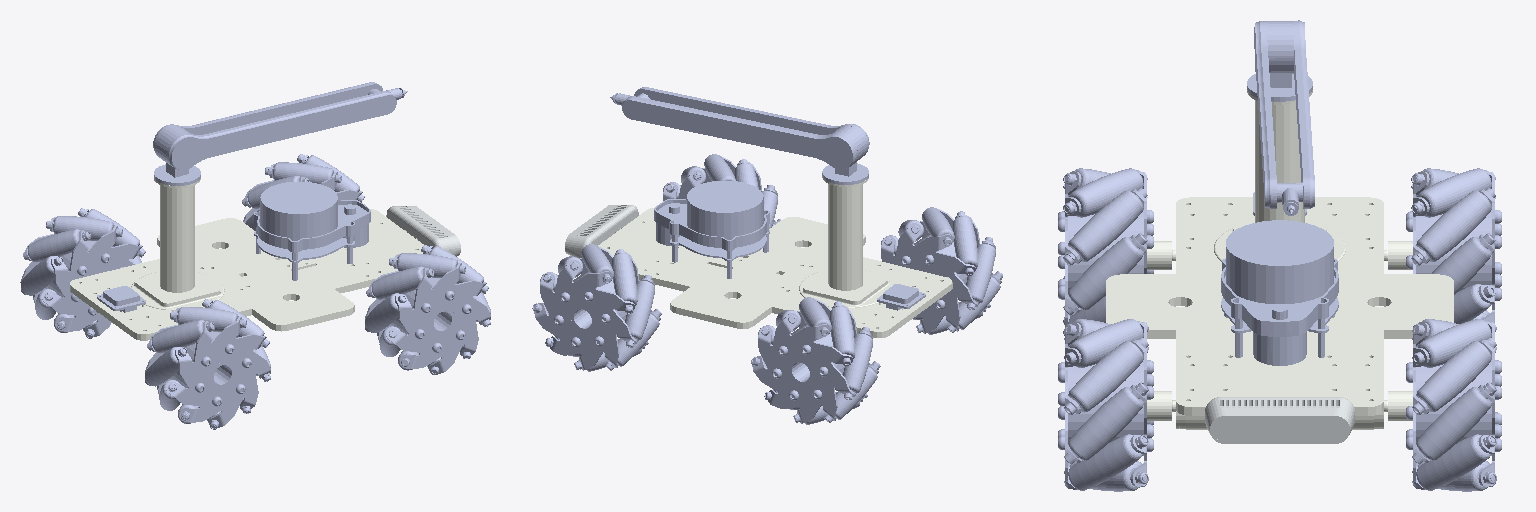
URDF robot description (agv6):
<?xml version="1.0" encoding="utf-8"?>
<!-- This URDF was automatically created by SolidWorks to URDF Exporter! Originally created by [author] ([email redacted]) 
     Commit Version: 1.6.0-4-g7f85cfe  Build Version: 1.6.7995.38578
     For more information, please see http://wiki.ros.org/sw_urdf_exporter -->
<robot
  name="agv6">
  <link
    name="base_link">
    <inertial>
      <origin
        xyz="-0.0141107725668544 3.029381788755E-07 0.00115012650526233"
        rpy="0 0 0" />
      <mass
        value="0.491708166350257" />
      <inertia
        ixx="0.000733239059020109"
        ixy="-6.66020089403762E-08"
        ixz="6.36036351146289E-09"
        iyy="0.00180017607991645"
        iyz="4.09726280654699E-12"
        izz="0.00231558679338059" />
    </inertial>
    <visual>
      <origin
        xyz="0 0 0"
        rpy="0 0 0" />
      <geometry>
        <mesh
          filename="package://agv6/meshes/base_link.STL" />
      </geometry>
      <material
        name="">
        <color
          rgba="0.984313725490196 1 0.968627450980392 1" />
      </material>
    </visual>
    <collision>
      <origin
        xyz="0 0 0"
        rpy="0 0 0" />
      <geometry>
        <mesh
          filename="package://agv6/meshes/base_link.STL" />
      </geometry>
    </collision>
  </link>
  <link
    name="Wheel_left_front">
    <inertial>
      <origin
        xyz="3.47385543941758E-10 3.9860337253117E-12 -0.0290464516500078"
        rpy="0 0 0" />
      <mass
        value="0.266614887622473" />
      <inertia
        ixx="8.05443070625669E-05"
        ixy="5.5662537194969E-16"
        ixz="9.71597439900984E-15"
        iyy="8.05443070646188E-05"
        iyz="-1.14696826000883E-12"
        izz="9.31811521324714E-05" />
    </inertial>
    <visual>
      <origin
        xyz="0 0 0"
        rpy="0 0 0" />
      <geometry>
        <mesh
          filename="package://agv6/meshes/Wheel_left_front.STL" />
      </geometry>
      <material
        name="">
        <color
          rgba="0.792156862745098 0.819607843137255 0.933333333333333 1" />
      </material>
    </visual>
    <collision>
      <origin
        xyz="0 0 0"
        rpy="0 0 0" />
      <geometry>
        <mesh
          filename="package://agv6/meshes/Wheel_left_front.STL" />
      </geometry>
    </collision>
  </link>
  <joint
    name="Wheel_left_front_jt"
    type="continuous">
    <origin
      xyz="0.107048219071856 0.0760006401560521 -0.0189999999999998"
      rpy="1.57079632679488 -1.5707963267949 0" />
    <parent
      link="base_link" />
    <child
      link="Wheel_left_front" />
    <axis
      xyz="0 0 1" />
  </joint>
  <link
    name="Wheel_right_front">
    <inertial>
      <origin
        xyz="3.47385377408305E-10 3.99003052820035E-12 0.0289535483499968"
        rpy="0 0 0" />
      <mass
        value="0.266614887622474" />
      <inertia
        ixx="8.05443070626013E-05"
        ixy="5.64822109780841E-16"
        ixz="9.73549499639134E-15"
        iyy="8.05443070646751E-05"
        iyz="-1.14698972472684E-12"
        izz="9.31811521325258E-05" />
    </inertial>
    <visual>
      <origin
        xyz="0 0 0"
        rpy="0 0 0" />
      <geometry>
        <mesh
          filename="package://agv6/meshes/Wheel_right_front.STL" />
      </geometry>
      <material
        name="">
        <color
          rgba="0.792156862745098 0.819607843137255 0.933333333333333 1" />
      </material>
    </visual>
    <collision>
      <origin
        xyz="0 0 0"
        rpy="0 0 0" />
      <geometry>
        <mesh
          filename="package://agv6/meshes/Wheel_right_front.STL" />
      </geometry>
    </collision>
  </link>
  <joint
    name="Wheel_right_front_jt"
    type="continuous">
    <origin
      xyz="0.10704821907186 -0.0759993598439369 -0.0189999999999996"
      rpy="1.57079632679476 -1.5707963267949 0" />
    <parent
      link="base_link" />
    <child
      link="Wheel_right_front" />
    <axis
      xyz="0 0 1" />
  </joint>
  <link
    name="Wheel_right_rear">
    <inertial>
      <origin
        xyz="-3.7903291616459E-12 3.4740943455347E-10 0.02904645164992"
        rpy="0 0 0" />
      <mass
        value="0.266614887621424" />
      <inertia
        ixx="8.0544307064606E-05"
        ixy="-6.43695276729721E-16"
        ixz="1.14698028788254E-12"
        iyy="8.05443070625906E-05"
        iyz="6.93133000309604E-15"
        izz="9.31811521324745E-05" />
    </inertial>
    <visual>
      <origin
        xyz="0 0 0"
        rpy="0 0 0" />
      <geometry>
        <mesh
          filename="package://agv6/meshes/Wheel_right_rear.STL" />
      </geometry>
      <material
        name="">
        <color
          rgba="0.792156862745098 0.819607843137255 0.933333333333333 1" />
      </material>
    </visual>
    <collision>
      <origin
        xyz="0 0 0"
        rpy="0 0 0" />
      <geometry>
        <mesh
          filename="package://agv6/meshes/Wheel_right_rear.STL" />
      </geometry>
    </collision>
  </link>
  <joint
    name="Wheel_right_rear_jt"
    type="continuous">
    <origin
      xyz="-0.107951409089476 -0.0759993598439437 -0.0189999999999995"
      rpy="1.5707963267949 0 0" />
    <parent
      link="base_link" />
    <child
      link="Wheel_right_rear" />
    <axis
      xyz="0 0 -1" />
  </joint>
  <link
    name="Wheel_left_rear">
    <inertial>
      <origin
        xyz="-3.789094038531E-12 3.47409212508865E-10 -0.0289535483500907"
        rpy="0 0 0" />
      <mass
        value="0.266614887621422" />
      <inertia
        ixx="8.05443070645667E-05"
        ixy="-6.45957913490074E-16"
        ixz="1.14696455560682E-12"
        iyy="8.05443070625707E-05"
        iyz="6.93090674193091E-15"
        izz="9.31811521324394E-05" />
    </inertial>
    <visual>
      <origin
        xyz="0 0 0"
        rpy="0 0 0" />
      <geometry>
        <mesh
          filename="package://agv6/meshes/Wheel_left_rear.STL" />
      </geometry>
      <material
        name="">
        <color
          rgba="0.792156862745098 0.819607843137255 0.933333333333333 1" />
      </material>
    </visual>
    <collision>
      <origin
        xyz="0 0 0"
        rpy="0 0 0" />
      <geometry>
        <mesh
          filename="package://agv6/meshes/Wheel_left_rear.STL" />
      </geometry>
    </collision>
  </link>
  <joint
    name="Wheel_left_rear_jt"
    type="continuous">
    <origin
      xyz="-0.107951409089479 0.0760006401560475 -0.0189999999999994"
      rpy="1.5707963267949 0 0" />
    <parent
      link="base_link" />
    <child
      link="Wheel_left_rear" />
    <axis
      xyz="0 0 -1" />
  </joint>
  <link
    name="Lidar">
    <inertial>
      <origin
        xyz="0.00857409192474684 0.0104781429757902 -1.76941794549634E-16"
        rpy="0 0 0" />
      <mass
        value="0.146695752131392" />
      <inertia
        ixx="6.33135346729767E-05"
        ixy="2.05151449566312E-05"
        ixz="7.24755862153932E-19"
        iyy="0.000124641101682034"
        iyz="-3.9522345022547E-19"
        izz="0.000109673997590948" />
    </inertial>
    <visual>
      <origin
        xyz="0 0 0"
        rpy="0 0 0" />
      <geometry>
        <mesh
          filename="package://agv6/meshes/Lidar.STL" />
      </geometry>
      <material
        name="">
        <color
          rgba="0.792156862745098 0.819607843137255 0.933333333333333 1" />
      </material>
    </visual>
    <collision>
      <origin
        xyz="0 0 0"
        rpy="0 0 0" />
      <geometry>
        <mesh
          filename="package://agv6/meshes/Lidar.STL" />
      </geometry>
    </collision>
  </link>
  <joint
    name="Lidar_jt"
    type="fixed">
    <origin
      xyz="0.0417151580666163 0 0.027"
      rpy="1.5707963267949 -0.0264386679685926 0" />
    <parent
      link="base_link" />
    <child
      link="Lidar" />
    <axis
      xyz="0 0 0" />
  </joint>
  <link
    name="camera">
    <inertial>
      <origin
        xyz="0.0115483643711406 -0.000441415122653756 -1.13628385581474E-05"
        rpy="0 0 0" />
      <mass
        value="0.107910841950023" />
      <inertia
        ixx="7.1257259001727E-05"
        ixy="2.27664851839744E-08"
        ixz="1.79225553235741E-08"
        iyy="7.025503337675E-05"
        iyz="-1.88600170449567E-10"
        izz="7.71021079633262E-06" />
    </inertial>
    <visual>
      <origin
        xyz="0 0 0"
        rpy="0 0 0" />
      <geometry>
        <mesh
          filename="package://agv6/meshes/camera.STL" />
      </geometry>
      <material
        name="">
        <color
          rgba="0.898039215686275 0.917647058823529 0.929411764705882 1" />
      </material>
    </visual>
    <collision>
      <origin
        xyz="0 0 0"
        rpy="0 0 0" />
      <geometry>
        <mesh
          filename="package://agv6/meshes/camera.STL" />
      </geometry>
    </collision>
  </link>
  <joint
    name="camera_jt"
    type="fixed">
    <origin
      xyz="0.151548404991191 0 -0.00299999999999999"
      rpy="1.5707963267949 -0.0264386679685926 0" />
    <parent
      link="base_link" />
    <child
      link="camera" />
    <axis
      xyz="0 0 0" />
  </joint>
  <link
    name="Link_1">
    <inertial>
      <origin
        xyz="-2.77555756156289E-17 0.0213531049276671 -8.32667268468867E-17"
        rpy="0 0 0" />
      <mass
        value="0.014853253631043" />
      <inertia
        ixx="3.72476272804096E-06"
        ixy="-1.52717649052892E-21"
        ixz="-4.09688182869347E-08"
        iyy="1.75364740682686E-06"
        iyz="9.81860977863269E-21"
        izz="4.25038255857524E-06" />
    </inertial>
    <visual>
      <origin
        xyz="0 0 0"
        rpy="0 0 0" />
      <geometry>
        <mesh
          filename="package://agv6/meshes/Link_1.STL" />
      </geometry>
      <material
        name="">
        <color
          rgba="0.792156862745098 0.819607843137255 0.933333333333333 1" />
      </material>
    </visual>
    <collision>
      <origin
        xyz="0 0 0"
        rpy="0 0 0" />
      <geometry>
        <mesh
          filename="package://agv6/meshes/Link_1.STL" />
      </geometry>
    </collision>
  </link>
  <joint
    name="Link_1_jt"
    type="revolute">
    <origin
      xyz="-0.077177 0 0.10084"
      rpy="1.5708 0 0.10723" />
    <parent
      link="base_link" />
    <child
      link="Link_1" />
    <axis
      xyz="0 1 0" />
    <limit
      lower="-3.142"
      upper="3.142"
      effort="100"
      velocity="3" />
  </joint>
  <link
    name="Link_2">
    <inertial>
      <origin
        xyz="0.090252079375302 0.00381667181198561 0.00270003489470364"
        rpy="0 0 0" />
      <mass
        value="0.071785788300906" />
      <inertia
        ixx="1.16431099951284E-05"
        ixy="-6.27559044789669E-06"
        ixz="-1.05003195017347E-05"
        iyy="0.000368732065022596"
        iyz="-1.87744522428076E-07"
        izz="0.000362315327370893" />
    </inertial>
    <visual>
      <origin
        xyz="0 0 0"
        rpy="0 0 0" />
      <geometry>
        <mesh
          filename="package://agv6/meshes/Link_2.STL" />
      </geometry>
      <material
        name="">
        <color
          rgba="0.792156862745098 0.819607843137255 0.933333333333333 1" />
      </material>
    </visual>
    <collision>
      <origin
        xyz="0 0 0"
        rpy="0 0 0" />
      <geometry>
        <mesh
          filename="package://agv6/meshes/Link_2.STL" />
      </geometry>
    </collision>
  </link>
  <joint
    name="Link_2_jt"
    type="revolute">
    <origin
      xyz="0 0.035395 0"
      rpy="3.1416 -0.10723 0" />
    <parent
      link="Link_1" />
    <child
      link="Link_2" />
    <axis
      xyz="0 0 -1" />
    <limit
      lower="-2.5"
      upper="2.5"
      effort="50"
      velocity="3" />
  </joint>
  <link
    name="gps">
    <inertial>
      <origin
        xyz="-0.00011371080558821 -0.00429992576596126 1.38777878078145E-17"
        rpy="0 0 0" />
      <mass
        value="0.00526131193736583" />
      <inertia
        ixx="4.05054326208938E-07"
        ixy="7.33496718553491E-09"
        ixz="-1.13657535488902E-21"
        iyy="6.82229019701943E-07"
        iyz="-1.19858039708162E-21"
        izz="3.36616354249181E-07" />
    </inertial>
    <visual>
      <origin
        xyz="0 0 0"
        rpy="0 0 0" />
      <geometry>
        <mesh
          filename="package://agv6/meshes/gps.STL" />
      </geometry>
      <material
        name="">
        <color
          rgba="0.792156862745098 0.819607843137255 0.933333333333333 1" />
      </material>
    </visual>
    <collision>
      <origin
        xyz="0 0 0"
        rpy="0 0 0" />
      <geometry>
        <mesh
          filename="package://agv6/meshes/gps.STL" />
      </geometry>
    </collision>
  </link>
  <joint
    name="gps_jt"
    type="fixed">
    <origin
      xyz="-0.131951595008809 0 0.0103"
      rpy="1.5707963267949 -0.0264386679685926 0" />
    <parent
      link="base_link" />
    <child
      link="gps" />
    <axis
      xyz="0 0 0" />
  </joint>
<!-- them plugin gps -->
        <gazebo reference="gps_link">
            <material>Gazebo/Orange</material>
            <gravity>true</gravity>
        </gazebo>
        
<gazebo>
    <plugin name="gps_plugin" filename="libhector_gazebo_ros_gps.so">
      <updateRate>10.0</updateRate>           <!-- Update frequency in Hz -->
      <bodyName>base_link</bodyName>         <!-- Link to attach the GPS sensor -->
      <topicName>/gps/fix</topicName>        <!-- ROS topic for GPS data -->
      <velocityTopicName>/gps/fix_velocity</velocityTopicName> <!-- ROS topic for velocity -->
      <referenceLatitude>40.7128</referenceLatitude>  <!-- Reference latitude (e.g., New York) -->
      <referenceLongitude>-74.0060</referenceLongitude> <!-- Reference longitude -->
      <referenceAltitude>0.0</referenceAltitude>     <!-- Reference altitude in meters -->
      <drift>0.001 0.001 0.001</drift>              <!-- Position drift (x, y, z) -->
      <gaussianNoise>0.05 0.05 0.05</gaussianNoise>  <!-- Gaussian noise for position -->
    </plugin>
  </gazebo>

    <!-- Add Gazebo plugin for Camera -->
    <gazebo reference="camera">
        <sensor type="camera" name="camera">
            <!-- <pose>0.015 0 0 0 -${pi/2} 0</pose> -->
            <update_rate>30.0</update_rate>
            <camera name="head">
                <horizontal_fov>1.3962634</horizontal_fov>
                <image>
                    <width>640</width>
                    <height>480</height>
                    <format>R8G8B8</format>
                </image>
                <clip>
                    <near>0.02</near>
                    <far>300</far>
                </clip>
                <noise>
                    <type>gaussian</type>
                    <mean>0.0</mean>
                    <stddev>0.007</stddev>
                </noise>
            </camera>
            <plugin name="camera_controller" filename="libgazebo_ros_camera.so">
                <alwaysOn>true</alwaysOn>
                <updateRate>0.0</updateRate>
                <robotNamespace>agv6</robotNamespace>
                <cameraName>camera</cameraName>
                <imageTopicName>image_raw</imageTopicName>
                <cameraInfoTopicName>camera_info</cameraInfoTopicName>
                <frameName>camera</frameName>
                <hackBaseline>0.07</hackBaseline>
                <distortionK1>0.0</distortionK1>
                <distortionK2>0.0</distortionK2>
                <distortionK3>0.0</distortionK3>
                <distortionT1>0.0</distortionT1>
                <distortionT2>0.0</distortionT2>
            </plugin>
            <visualize>true</visualize>
        </sensor>
    </gazebo>

    <!-- Add Gazebo plugin for Lidar -->
    <gazebo reference="Lidar">
        <sensor name="laser" type="ray">
            <pose>0 0.03 0 1.5708 0 0</pose>
            <ray>
                <scan>
                    <horizontal>
                        <!-- The URG-04LX-UG01 has 683 steps with 0.35139 Degree resolution -->
                        <resolution>1</resolution>
                        <max_angle>2.0944</max_angle> <!-- 120 Degree -->
                        <min_angle>-2.0944</min_angle> <!-- -120 Degree -->
                        <samples>683</samples>
                    </horizontal>
                </scan>
                <range>
                    <min>0.08</min>
                    <max>5</max>
                    <resolution>0.01</resolution>
                </range>
            </ray>
            <plugin name="laser" filename="libgazebo_ros_laser.so">
                <robotNamespace>agv6</robotNamespace>
                <topicName>Lidar/scan</topicName>
                <frameName>Lidar</frameName>
            </plugin>
            <always_on>1</always_on>
            <update_rate>30</update_rate>
            <visualize>true</visualize>
        </sensor>
    </gazebo>


  <!-- Gazebo Transmissions for Wheels -->
  <transmission name="wheel_left_front_trans">
    <type>transmission_interface/SimpleTransmission</type>
    <joint name="Wheel_left_front_jt">
      <hardwareInterface>hardware_interface/VelocityJointInterface</hardwareInterface>
    </joint>
    <actuator name="wheel_left_front_motor">
      <hardwareInterface>hardware_interface/VelocityJointInterface</hardwareInterface>
      <mechanicalReduction>1</mechanicalReduction>
    </actuator>
  </transmission>

  <transmission name="wheel_right_front_trans">
    <type>transmission_interface/SimpleTransmission</type>
    <joint name="Wheel_right_front_jt">
      <hardwareInterface>hardware_interface/VelocityJointInterface</hardwareInterface>
    </joint>
    <actuator name="wheel_right_front_motor">
      <hardwareInterface>hardware_interface/VelocityJointInterface</hardwareInterface>
      <mechanicalReduction>1</mechanicalReduction>
    </actuator>
  </transmission>

  <transmission name="wheel_left_rear_trans">
    <type>transmission_interface/SimpleTransmission</type>
    <joint name="Wheel_left_rear_jt">
      <hardwareInterface>hardware_interface/VelocityJointInterface</hardwareInterface>
    </joint>
    <actuator name="wheel_left_rear_motor">
      <hardwareInterface>hardware_interface/VelocityJointInterface</hardwareInterface>
      <mechanicalReduction>1</mechanicalReduction>
    </actuator>
  </transmission>

  <transmission name="wheel_right_rear_trans">
    <type>transmission_interface/SimpleTransmission</type>
    <joint name="Wheel_right_rear_jt">
      <hardwareInterface>hardware_interface/VelocityJointInterface</hardwareInterface>
    </joint>
    <actuator name="wheel_right_rear_motor">
      <hardwareInterface>hardware_interface/VelocityJointInterface</hardwareInterface>
      <mechanicalReduction>1</mechanicalReduction>
    </actuator>
  </transmission>

  <!-- Transmission cho khớp Link_1 -->
  <transmission name="link_1_trans">
    <type>transmission_interface/SimpleTransmission</type>
    <joint name="Link_1_jt">
      <hardwareInterface>hardware_interface/PositionJointInterface</hardwareInterface>
    </joint>
    <actuator name="link_1_motor">
      <hardwareInterface>hardware_interface/PositionJointInterface</hardwareInterface>
      <mechanicalReduction>1</mechanicalReduction>
    </actuator>
  </transmission>

  <!-- Transmission cho khớp Link_2 -->
  <transmission name="link_2_trans">
    <type>transmission_interface/SimpleTransmission</type>
    <joint name="Link_2_jt">
      <hardwareInterface>hardware_interface/PositionJointInterface</hardwareInterface>
    </joint>
    <actuator name="link_2_motor">
      <hardwareInterface>hardware_interface/PositionJointInterface</hardwareInterface>
      <mechanicalReduction>1</mechanicalReduction>
    </actuator>
  </transmission>
        <gazebo>
            <plugin name="gazebo_ros_control" filename="libgazebo_ros_control.so">
                <robotNamespace>/agv6</robotNamespace>
            </plugin>
        </gazebo>

  <gazebo>
      <plugin name="zm_robot_diff_drive" filename="libgazebo_ros_mecanum_drive.so">
        <commandTopic>cmd_vel</commandTopic>
        <odometryTopic>odom</odometryTopic>
        <odometryFrame>odom</odometryFrame>
        <robotBaseFrame>base_footprint</robotBaseFrame>
        <LeftRear>Wheel_left_rear_jt</LeftRear>
        <LeftFront>Wheel_left_front_jt</LeftFront>
        <RightFront>Wheel_right_front_jt</RightFront>
        <RightRear>Wheel_right_rear_jt</RightRear>
        <odometryRate>20</odometryRate>      
        <publishWheelTF>false</publishWheelTF>
        <publishWheelJointState>true</publishWheelJointState>
        <WheelTorque>30</WheelTorque>
        <WheelSeparationW>0.15</WheelSeparationW>
        <WheelSeparationL>0.2</WheelSeparationL>
        <wheelAccel>5</wheelAccel>
        <wheelDiameter>0.13</wheelDiameter>
        <publishOdom>true</publishOdom>
        <isRollerModel>true</isRollerModel>
      </plugin>
  </gazebo> 

</robot>

--- Render facts (derived) ---
3 views of the same robot in one strip: view 1: azimuth 30°, elevation 25°; view 2: azimuth 150°, elevation 25°; view 3: azimuth 270°, elevation 25° (orthographic).
Robot: agv6 — 10 links, 9 joints (2 revolute, 4 continuous, 3 fixed); root link base_link; default pose: all joints at 0.
Visible links, largest first — view 1: base_link, Wheel_right_front, Wheel_right_rear, Wheel_left_rear, Link_2, Lidar, Wheel_left_front, camera, Link_1, gps; view 2: base_link, Wheel_left_front, Wheel_left_rear, Wheel_right_rear, Link_2, Lidar, Wheel_right_front, camera, Link_1, gps; view 3: base_link, Wheel_right_front, Wheel_left_front, Lidar, Wheel_right_rear, Wheel_left_rear, camera, Link_2, Link_1.
Boxes of the visible links, x1,y1,x2,y2 form: base_link: [70, 178, 423, 340]; Wheel_right_front: [365, 245, 490, 374]; Wheel_right_rear: [145, 299, 270, 429]; Wheel_left_rear: [20, 208, 145, 338]; Link_2: [153, 82, 407, 169]; Lidar: [254, 182, 370, 280]; Wheel_left_front: [242, 154, 364, 230]; camera: [386, 206, 460, 256]; Link_1: [154, 126, 200, 185]; gps: [97, 286, 145, 312]; base_link: [598, 176, 952, 337]; Wheel_left_front: [532, 244, 661, 371]; Wheel_left_rear: [751, 297, 880, 424]; Wheel_right_rear: [881, 207, 1002, 334]; Link_2: [610, 87, 869, 168]; Lidar: [654, 181, 769, 278]; Wheel_right_front: [663, 154, 780, 228]; camera: [565, 205, 638, 257]; Link_1: [822, 126, 868, 184]; gps: [877, 284, 925, 310]; base_link: [1106, 90, 1453, 429]; Wheel_right_front: [1058, 319, 1153, 491]; Wheel_left_front: [1406, 319, 1501, 491]; Lidar: [1221, 220, 1338, 365]; Wheel_right_rear: [1058, 168, 1153, 335]; Wheel_left_rear: [1406, 168, 1501, 323]; camera: [1205, 397, 1354, 443]; Link_2: [1254, 20, 1314, 215]; Link_1: [1247, 21, 1312, 101].
Size in the robot's own frame: 0.3356 by 0.268 by 0.2218 metres.
10 mesh visuals loaded from 10 distinct referenced files (10 binary STL).
